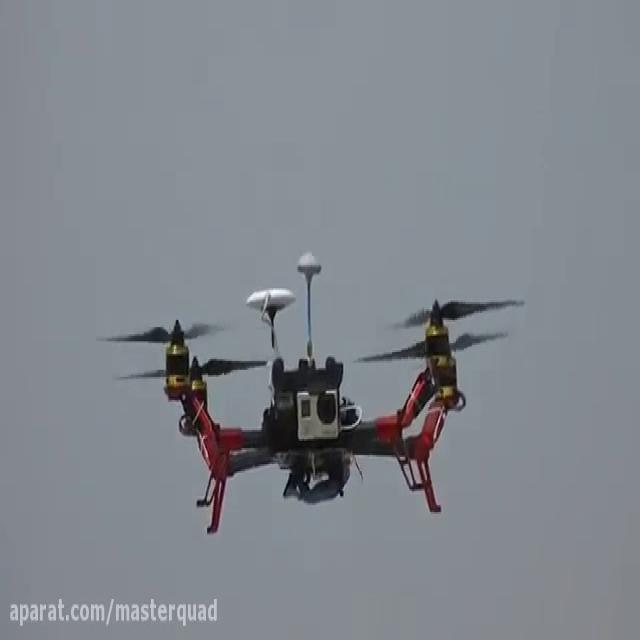drone: (93, 245, 531, 540)
